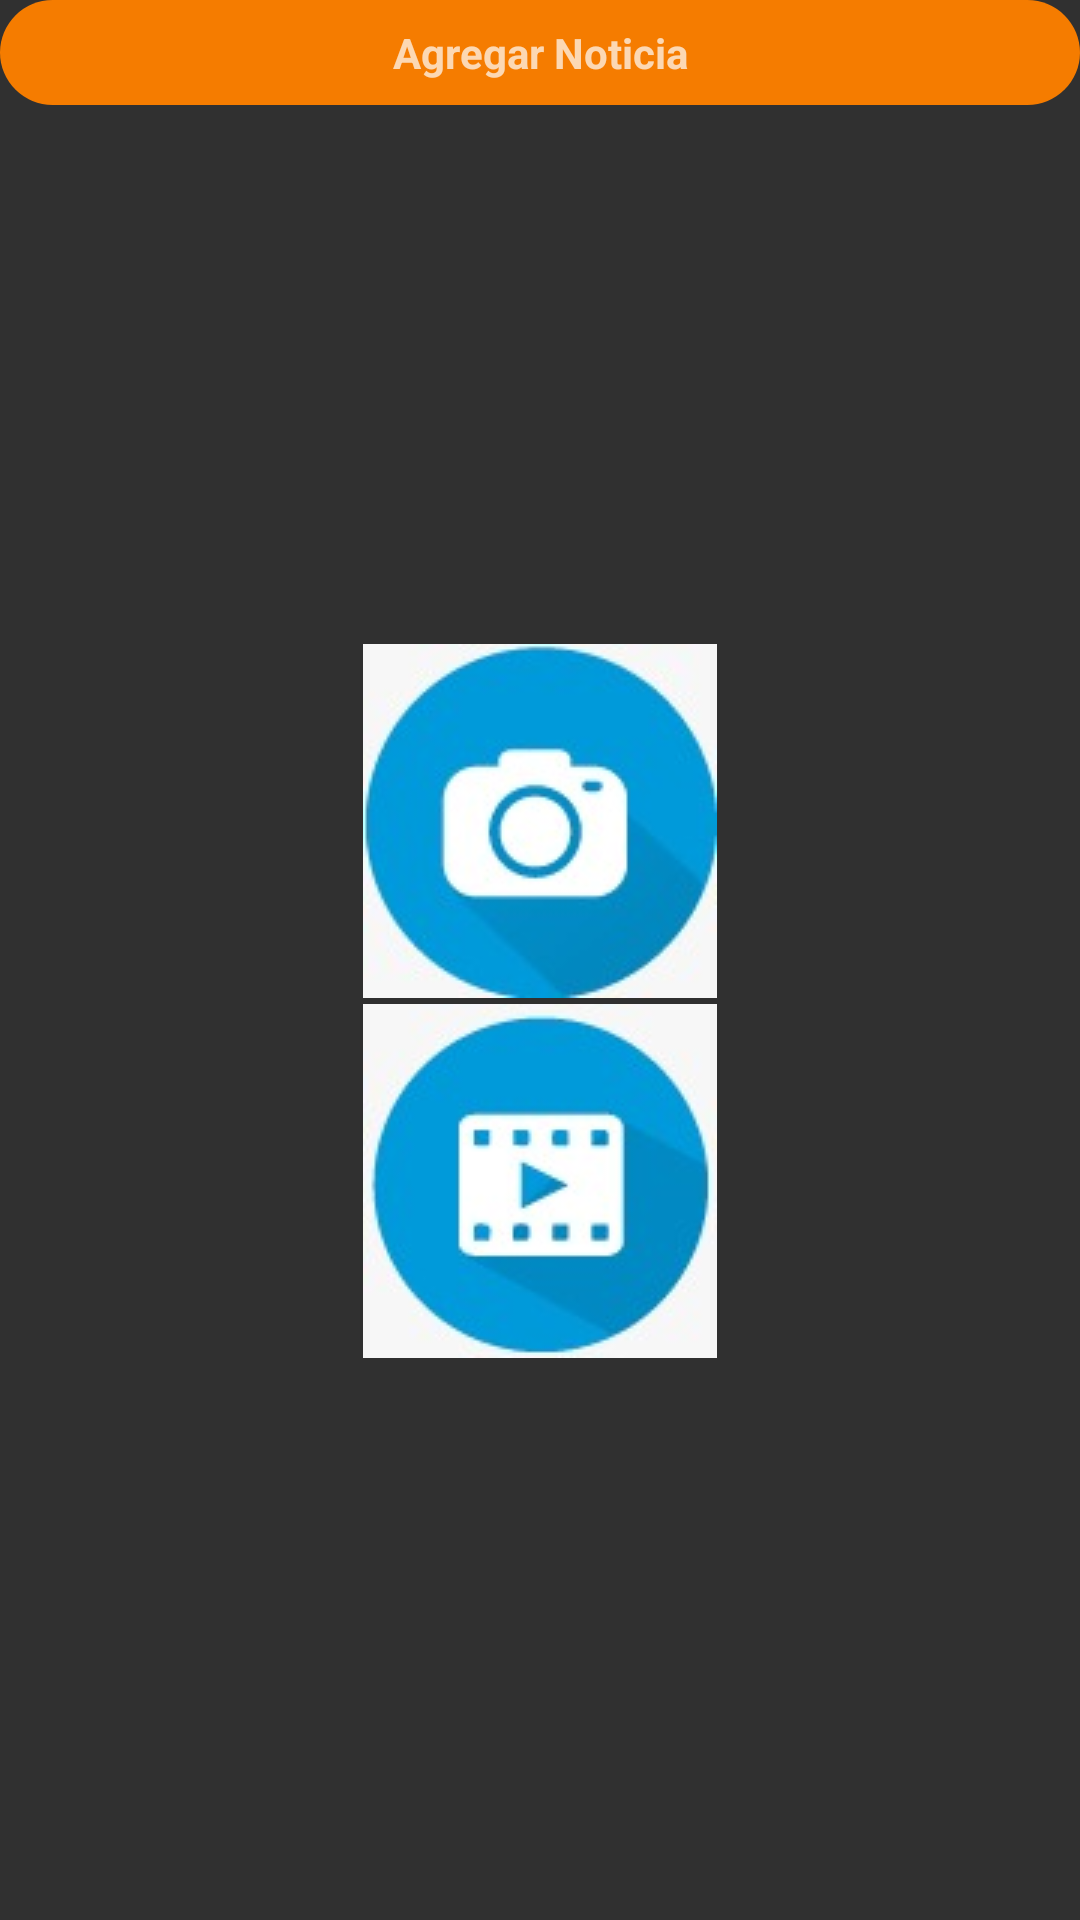

Named icons in this screenshot (1080w x 1920h) and their centers, point (x, y):
photos: point (540, 821)
video post: point (540, 1181)
